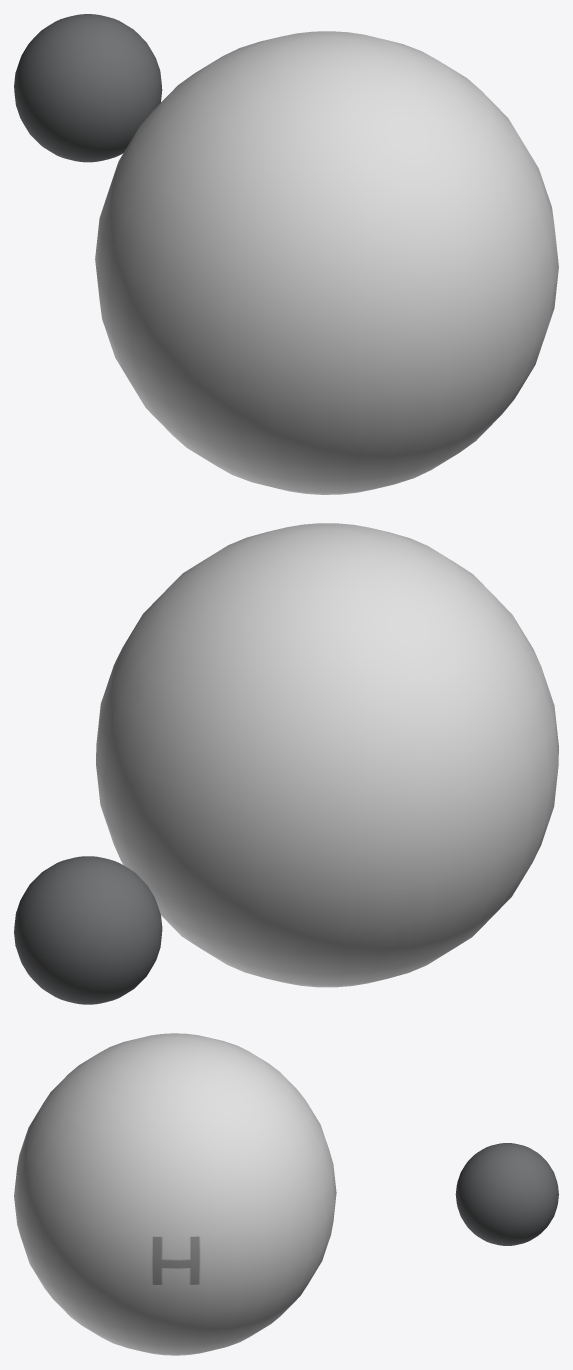
Rendered from hydrogenmodel.gltf.
3 views of the same model, one above another, from view 1: azimuth 30°, elevation 25°; view 2: azimuth 150°, elevation 25°; view 3: azimuth 270°, elevation 25° (orthographic). The views are drawn at different scales.
Parts seen in each view (by area): view 1: HydrogenMain, HydrogenAtom; view 2: HydrogenMain, HydrogenAtom; view 3: HydrogenMain, HydrogenAtom.
Boxes of the visible parts, x1,y1,x2,y2 form: HydrogenMain: (95,31,558,494); HydrogenAtom: (14,14,162,162); HydrogenMain: (96,523,558,987); HydrogenAtom: (14,856,162,1004); HydrogenMain: (14,1033,336,1355); HydrogenAtom: (455,1143,558,1245).
Bounding box in the file's own units: 2 × 2 × 3.38.
Materials: 2 (1 with a texture image).
